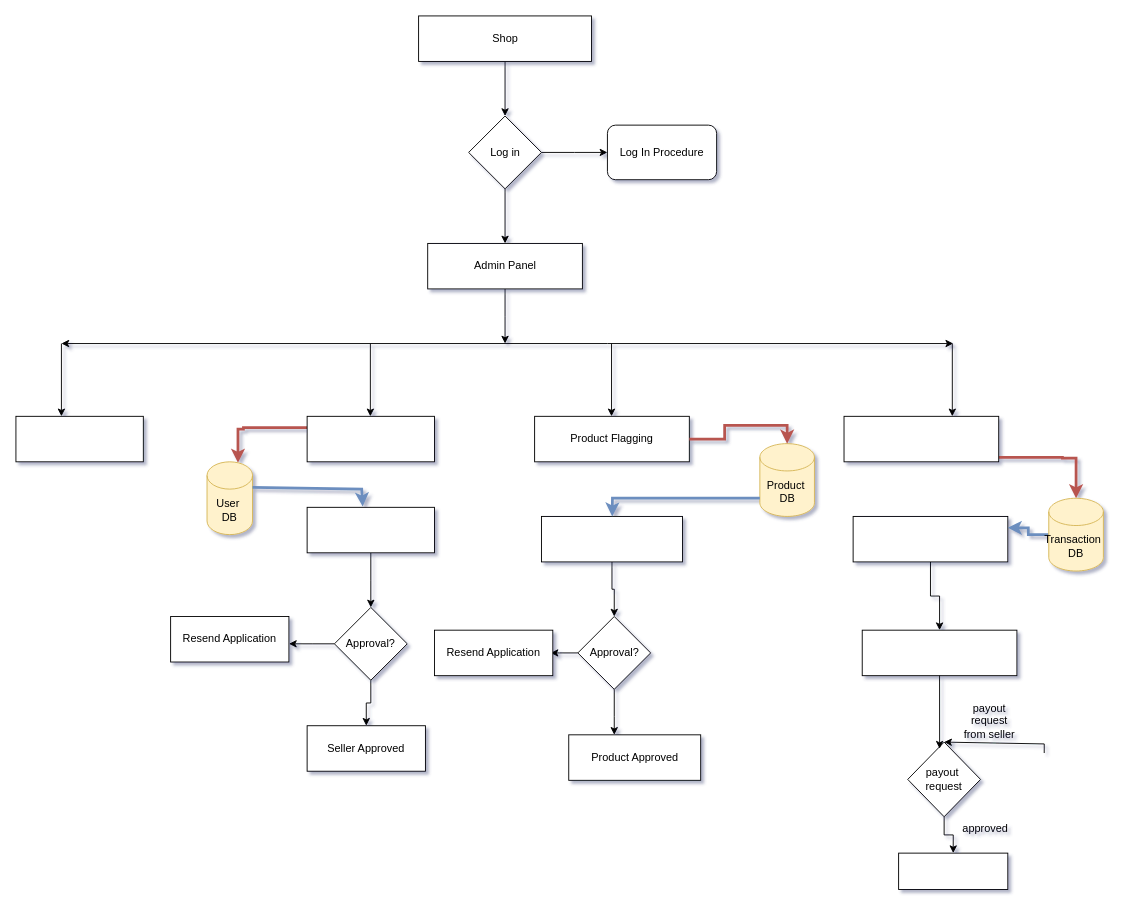
The diagram is 1128 pixels wide and 911 high, and some of its shapes have lost their labels. Each missing label, with the centre of its shape:
"Consumer & Seller dispute Management" goes at [79,438].
"Manage payouts" goes at [939,652].
"Payment Management" goes at [921,438].
"Review Application" goes at [370,529].
"Review Product" goes at [611,539].
"Seller Approval Queue" goes at [370,438].
"Shared payment" goes at [953,871].
"View Tasnscation" goes at [930,539].
